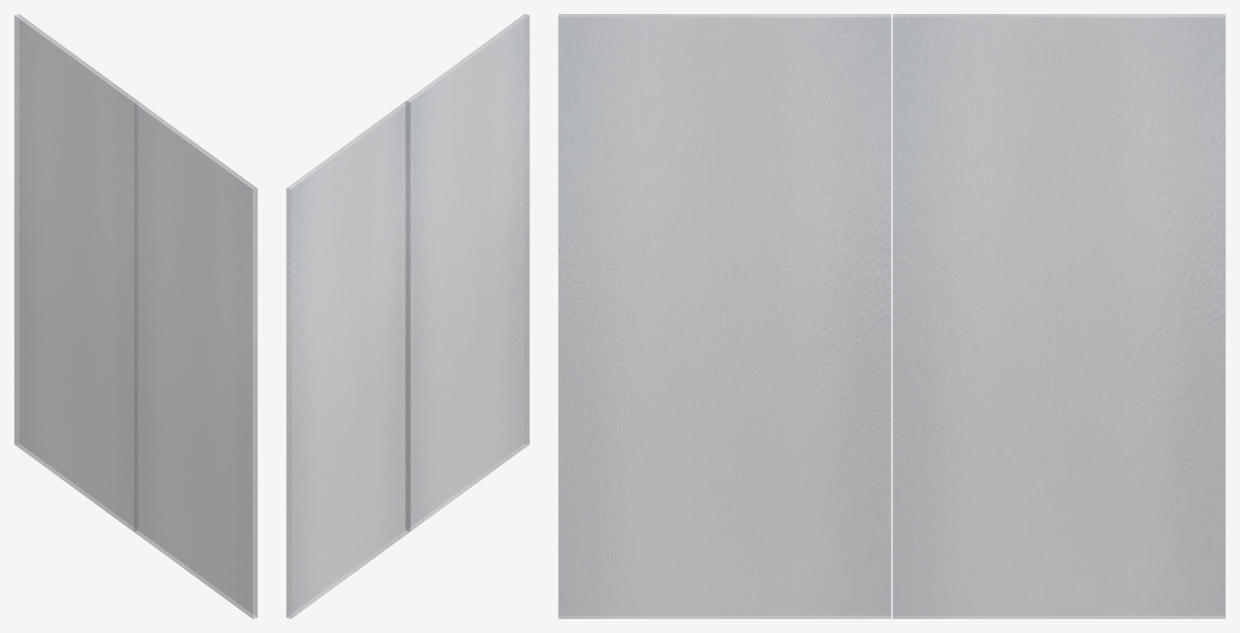
Rendered from PuertasPrincipales.obj.
3 renders of one model, left to right at view 1: azimuth 30°, elevation 25°; view 2: azimuth 150°, elevation 25°; view 3: azimuth 270°, elevation 25°, orthographic. The views are drawn at different scales.
Visible parts, largest first — view 1: Box039, Box038; view 2: Box038, Box039; view 3: Box038, Box039.
Boxes of the visible parts, x1=… form: Box039: x1=133, y1=101, x2=257, y2=618; Box038: x1=14, y1=14, x2=137, y2=531; Box038: x1=286, y1=101, x2=410, y2=618; Box039: x1=406, y1=14, x2=529, y2=531; Box038: x1=892, y1=14, x2=1225, y2=618; Box039: x1=558, y1=14, x2=891, y2=618.
Size of the model in its own units: 0.1909 by 16.1 by 16.19.
1 material, 1 textured.
